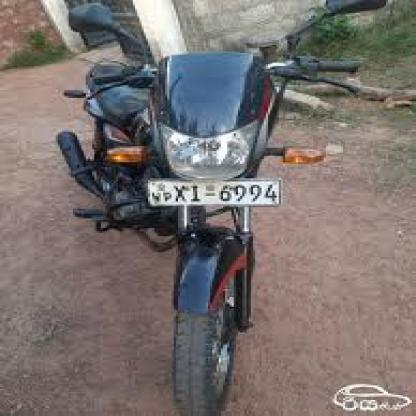bike front: (49, 0, 333, 416)
number plate: (149, 182, 282, 205)
